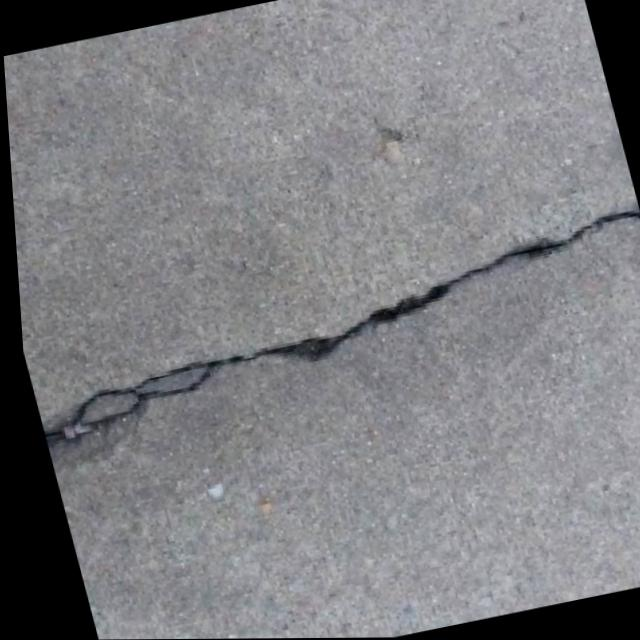Crack: (9, 176, 640, 496)
